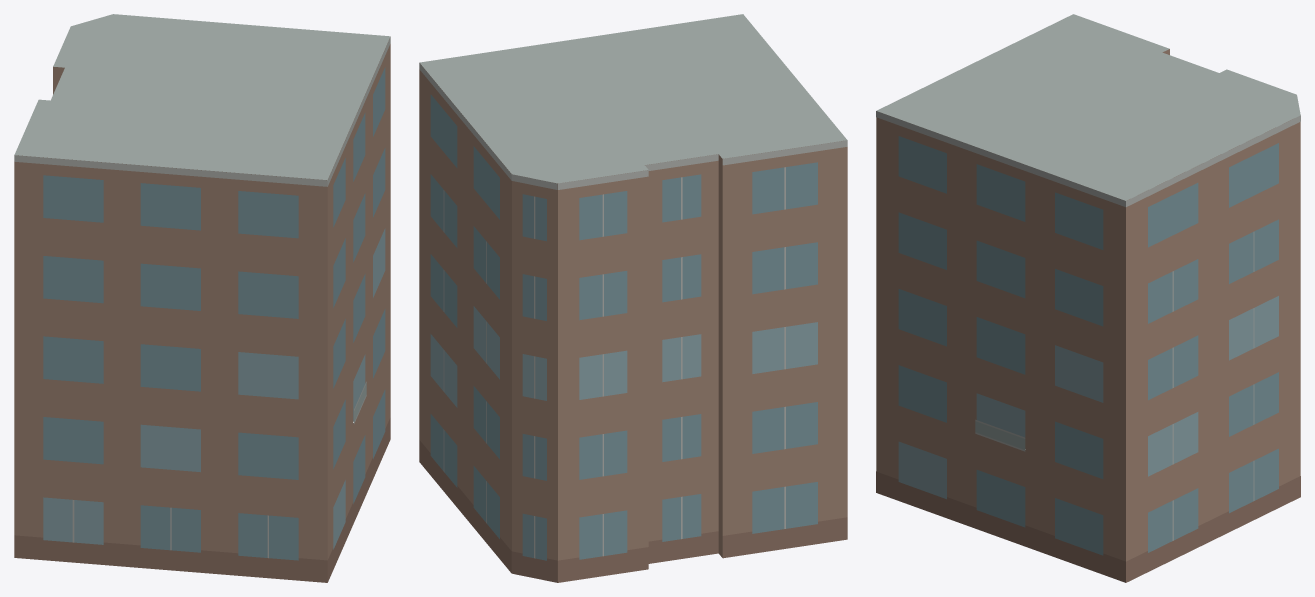
The model's file is survey-upis-32615969.glb.
The picture shows the model from 3 angles, left to right: view 1: azimuth 30°, elevation 25°; view 2: azimuth 150°, elevation 25°; view 3: azimuth 270°, elevation 25°; orthographic projection. The views are drawn at different scales.
Visible parts, largest first — view 1: survey-upis-32615969.tmp; view 2: survey-upis-32615969.tmp; view 3: survey-upis-32615969.tmp.
Part boxes in pixels (x1,y1,x2,y2): survey-upis-32615969.tmp: (14,14,390,582); survey-upis-32615969.tmp: (419,14,847,582); survey-upis-32615969.tmp: (876,14,1300,582).
Bounding box in the file's own units: 15.44 × 14.7 × 14.82.
